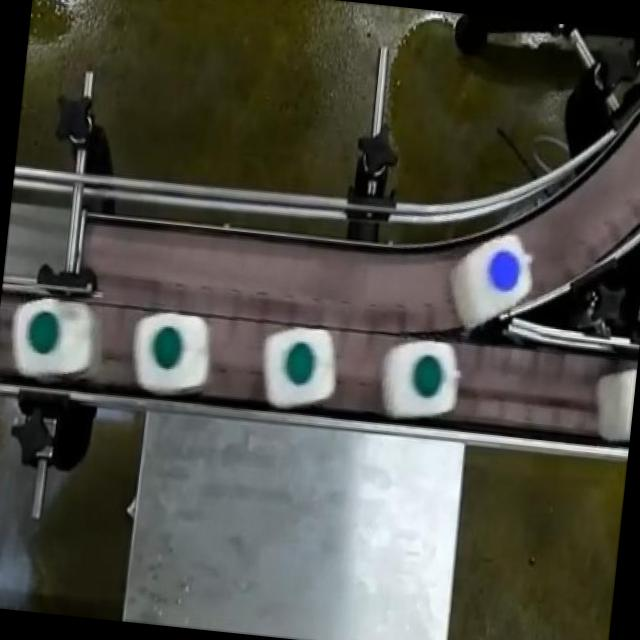milk: (434, 218, 546, 335), (1, 288, 102, 389), (252, 319, 347, 418), (130, 305, 216, 403), (380, 340, 466, 422)
